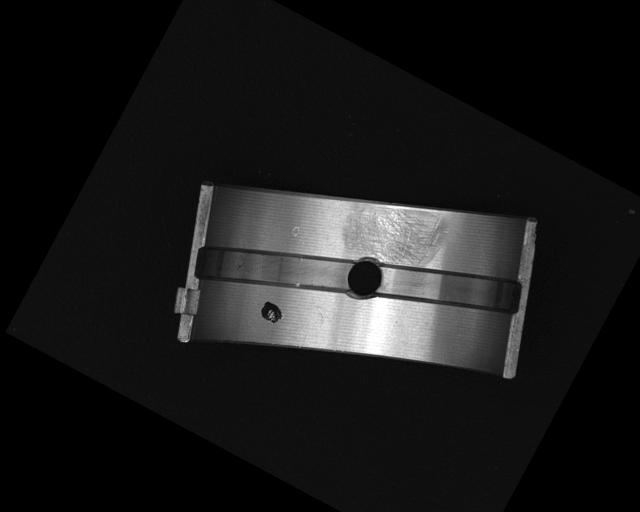blot: (255, 297, 287, 329)
bruise: (288, 223, 302, 239)
gap: (193, 197, 360, 339), (371, 223, 527, 352)
hole: (338, 251, 391, 307)
scratch: (335, 177, 456, 289)
